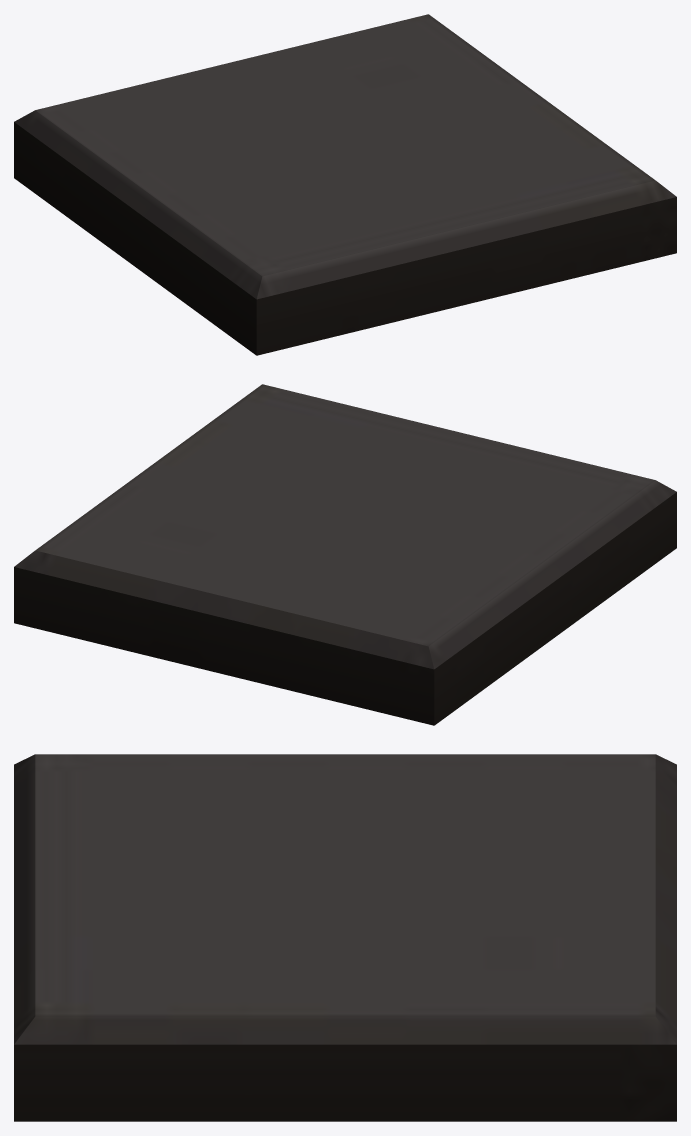
Rendered from space-platform-foundation.glb.
The picture shows the model from 3 angles, top to bottom: view 1: azimuth 30°, elevation 25°; view 2: azimuth 150°, elevation 25°; view 3: azimuth 270°, elevation 25°; orthographic projection. The views are drawn at different scales.
Visible parts, largest first — view 1: space-platform-foundation; view 2: space-platform-foundation; view 3: space-platform-foundation.
Part boxes in pixels (x1=…): space-platform-foundation: x1=14, y1=14, x2=676, y2=355; space-platform-foundation: x1=14, y1=384, x2=676, y2=725; space-platform-foundation: x1=14, y1=754, x2=676, y2=1121.
Bounding box in the file's own units: 0.25 × 0.04 × 0.25.
1 material, 1 textured.
